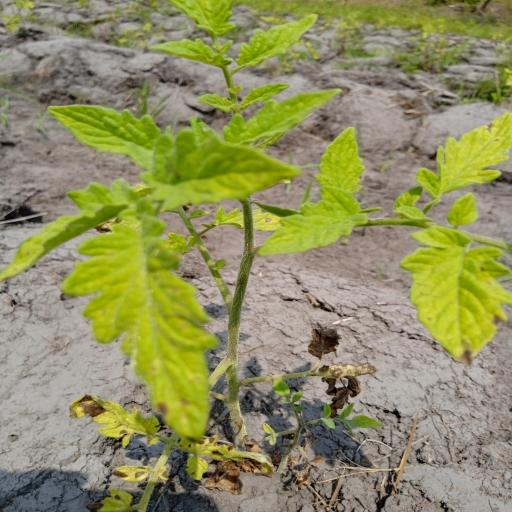Tomato_Brown_Spots: (51, 206, 248, 451)
